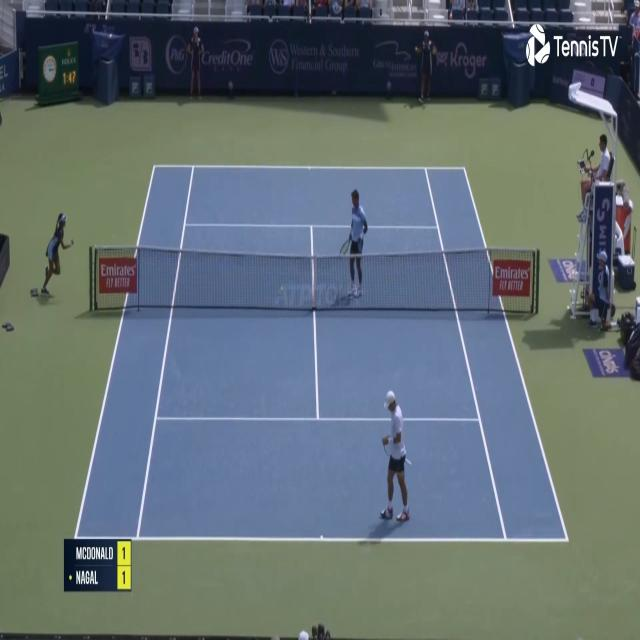tennis-player: (377, 386, 412, 528), (338, 185, 369, 299)
